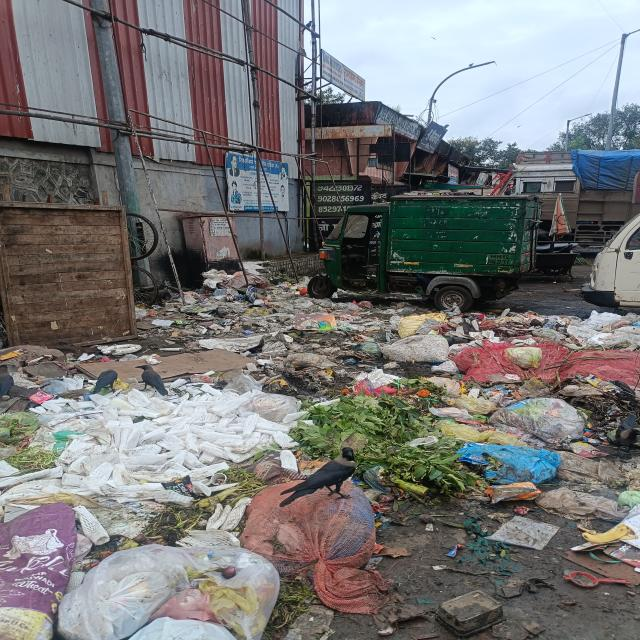garbage: (3, 342, 640, 630), (139, 298, 640, 340), (186, 270, 307, 300)
